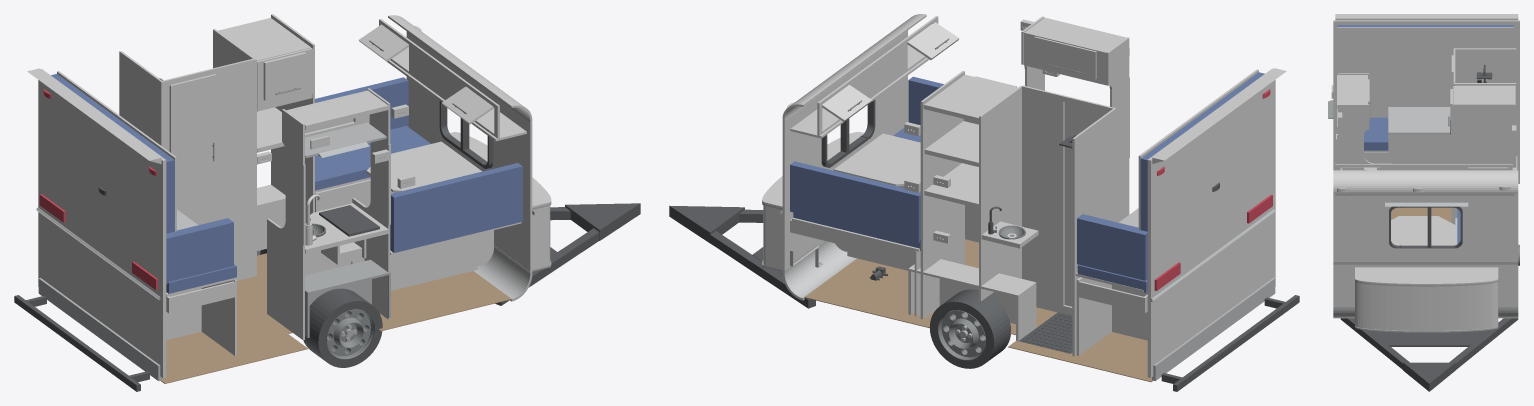
File: MOBILIÁRIO PARA MODO DE VIAGEM DE REBOQUE DE 3,5 M.glb
3 renders of one model, left to right at view 1: azimuth 30°, elevation 25°; view 2: azimuth 150°, elevation 25°; view 3: azimuth 270°, elevation 25°, orthographic. The views are drawn at different scales.
Visible parts, largest first — view 1: Mesh_Mesh_head_geo.001_lambert2SG.001; view 2: Mesh_Mesh_head_geo.001_lambert2SG.001; view 3: Mesh_Mesh_head_geo.001_lambert2SG.001.
Boxes of the visible parts, x1=… form: Mesh_Mesh_head_geo.001_lambert2SG.001: x1=14, y1=14, x2=640, y2=391; Mesh_Mesh_head_geo.001_lambert2SG.001: x1=669, y1=14, x2=1299, y2=391; Mesh_Mesh_head_geo.001_lambert2SG.001: x1=1328, y1=14, x2=1519, y2=391.
Bounding box in the file's own units: 0.273 × 0.118 × 0.107.
